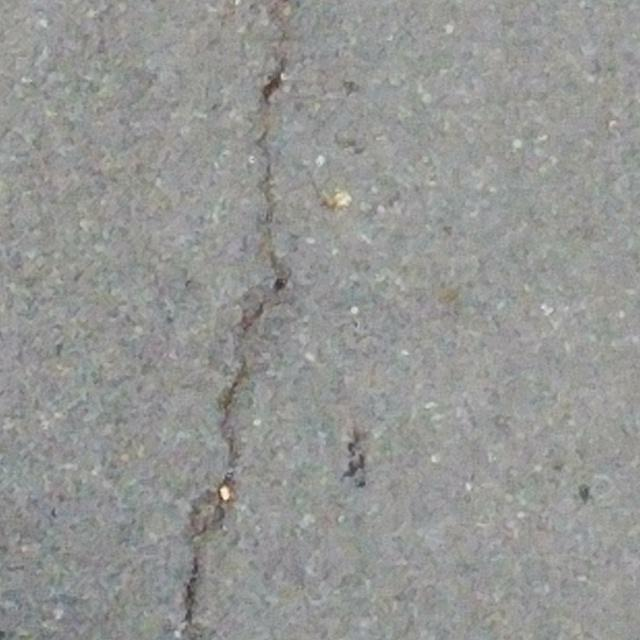LongitudinalCrack: (178, 56, 291, 630)
